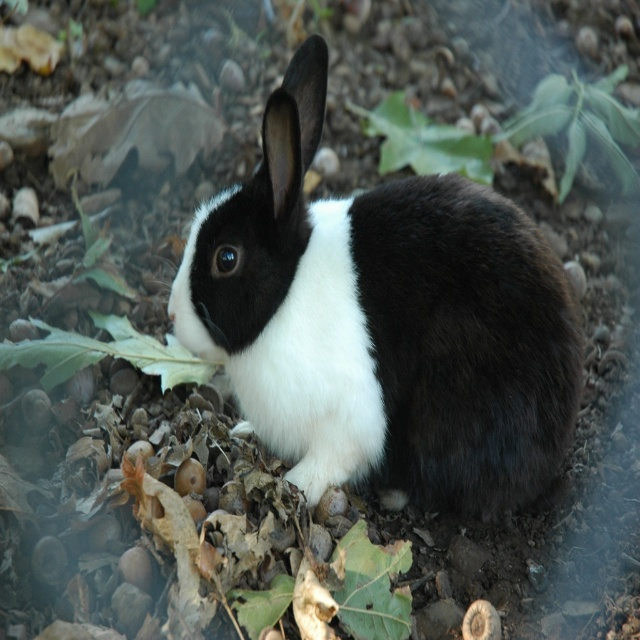Rabbit: (165, 31, 588, 525)
